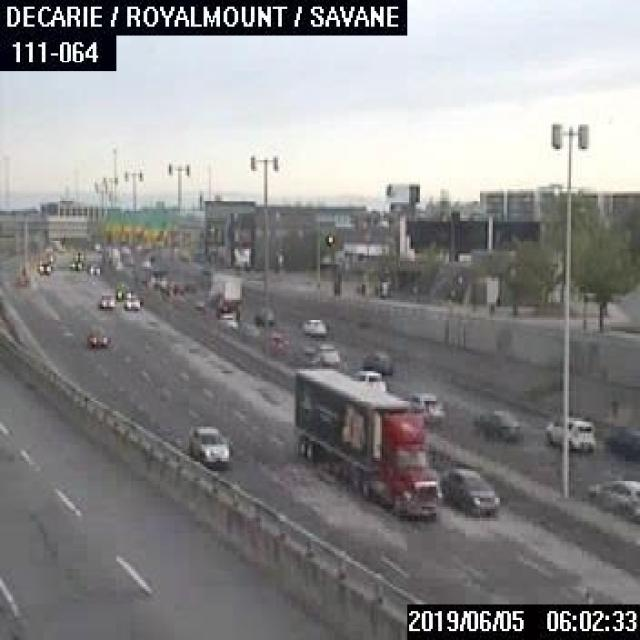vehicle: (290, 363, 434, 517), (438, 465, 500, 515), (587, 473, 638, 518), (544, 411, 594, 451), (469, 402, 520, 440), (188, 422, 230, 466), (209, 273, 242, 327), (400, 389, 444, 424), (607, 420, 638, 460), (361, 349, 392, 374), (82, 326, 109, 346), (300, 316, 328, 335), (251, 304, 276, 322), (148, 269, 168, 287), (122, 292, 140, 309), (98, 293, 114, 309), (191, 295, 205, 309)
